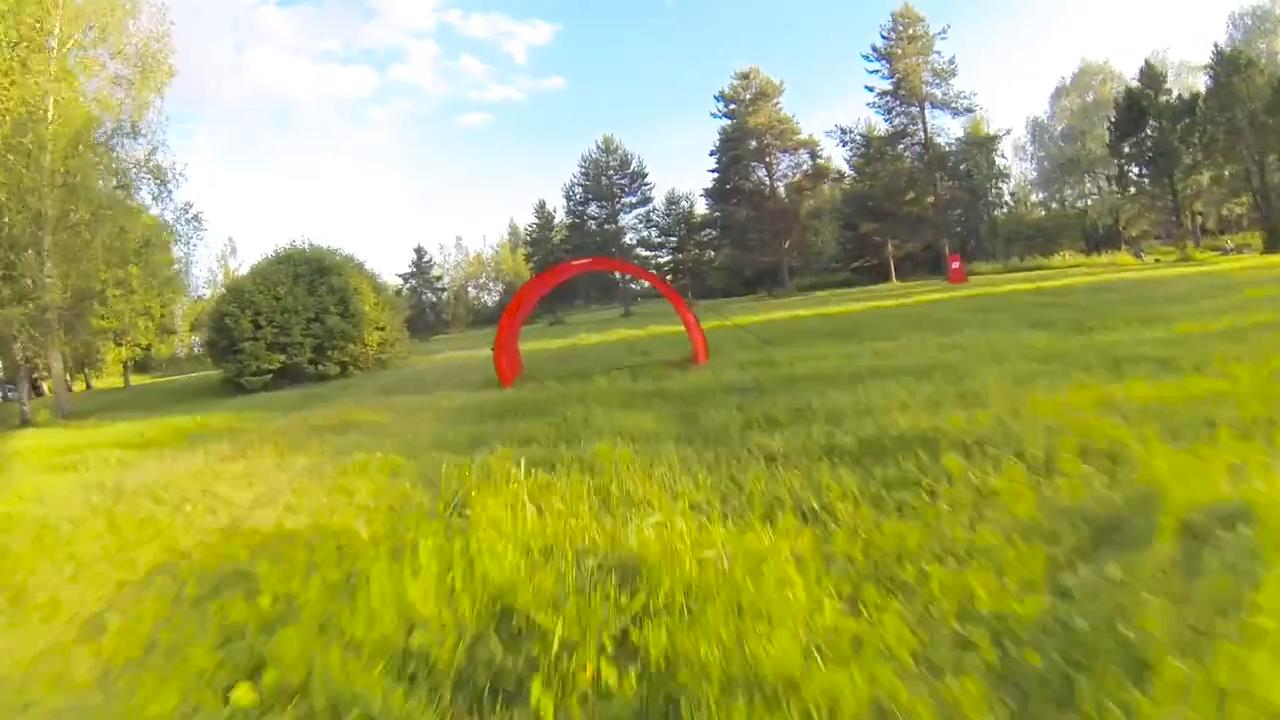gate: (489, 254, 713, 387)
